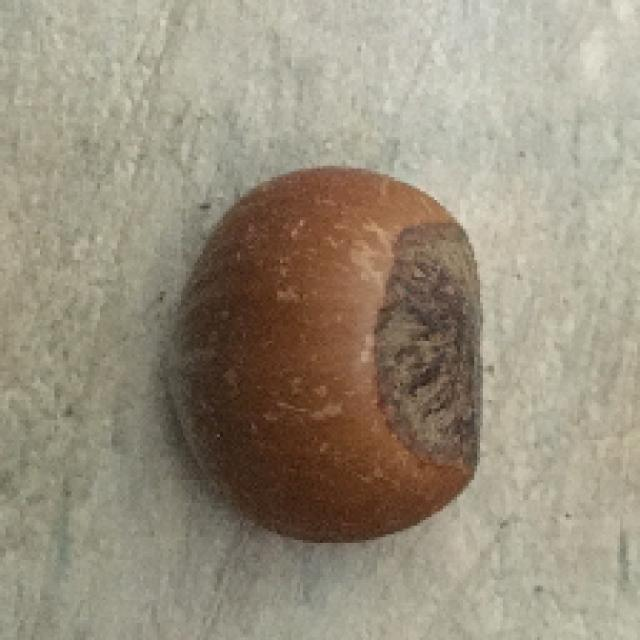QualityHazelnut: (160, 166, 485, 551)
